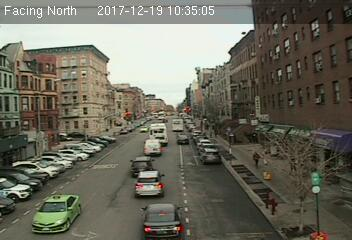bus: (148, 123, 168, 145)
car: (33, 193, 82, 235), (139, 203, 187, 240), (135, 169, 166, 197), (130, 156, 155, 176), (143, 138, 162, 156), (200, 147, 221, 163), (176, 134, 189, 145)
